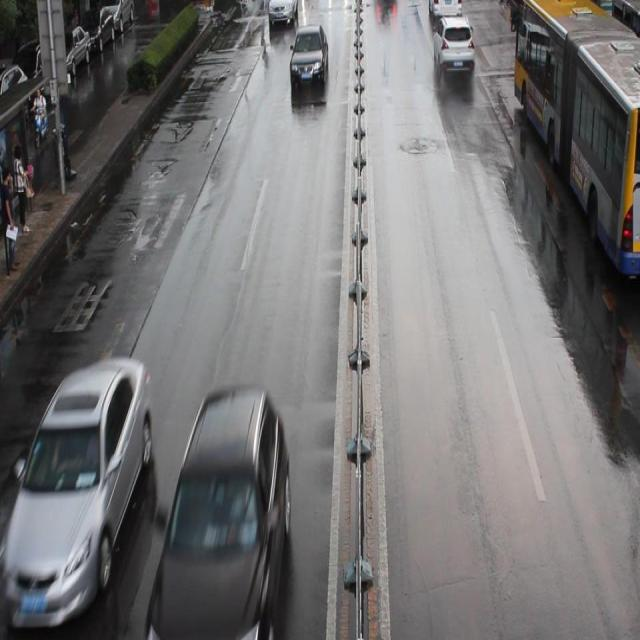car: (1, 358, 152, 614), (149, 386, 288, 640), (289, 28, 327, 92), (434, 17, 474, 74), (268, 1, 298, 31), (426, 1, 461, 23)
van: (514, 1, 640, 280)
